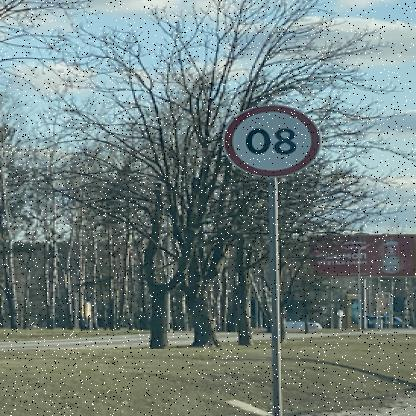speedlimit: (226, 104, 324, 176)
